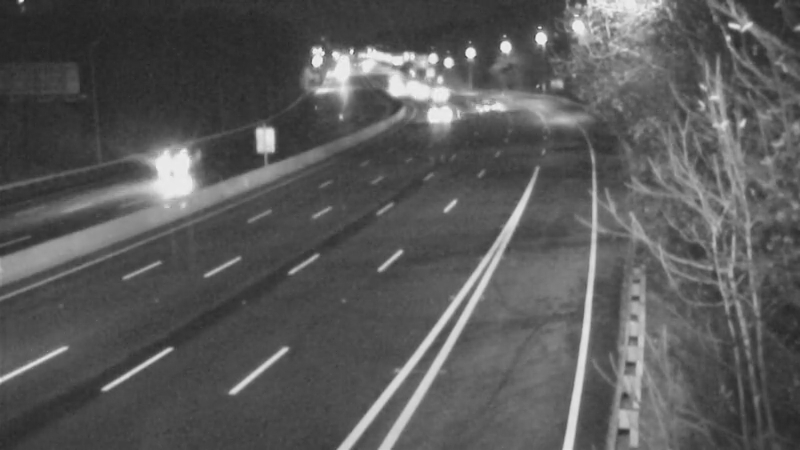vehicle: (147, 131, 227, 211), (461, 73, 511, 123), (421, 87, 471, 137)
